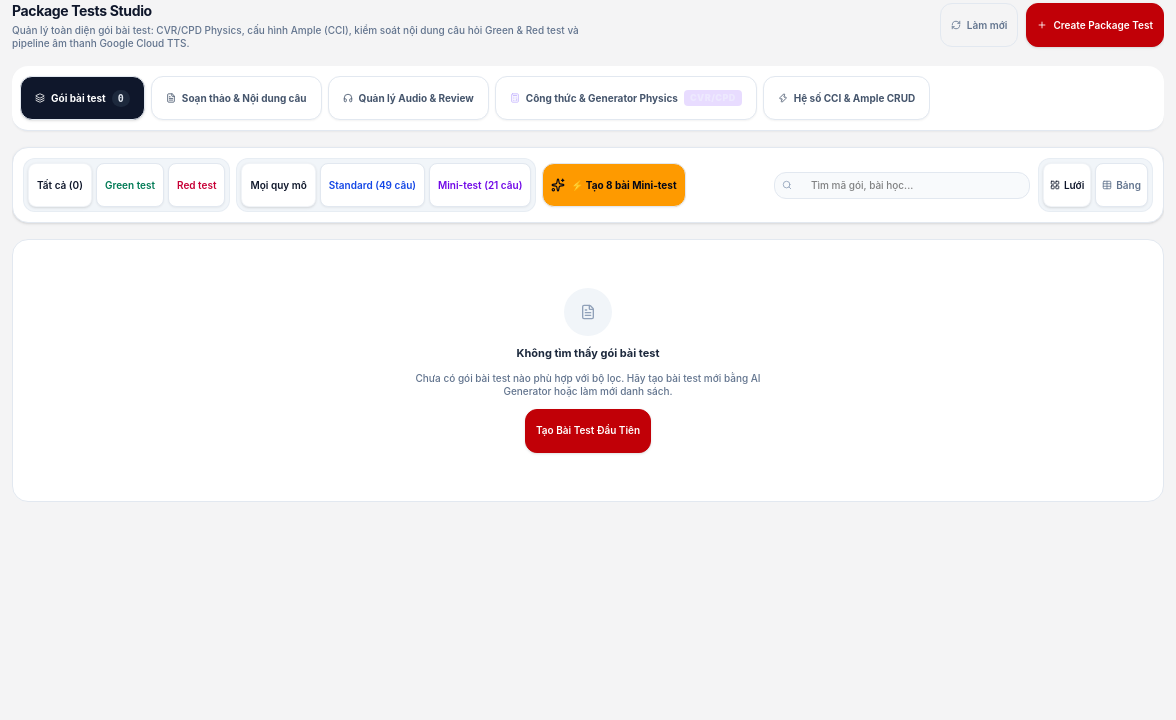
Test: AdminPackageTestsPage › switches to Formulas & Generator Physics tab and displays formulas, archetype matrix, and physics sandbox
What coordinates should you click on to do the following:
click the button "Công thức & Generator Physics CVR/CPD"
I would click on:
 (626, 98)
Its box is [495,76,757,120].
(page scrolled)
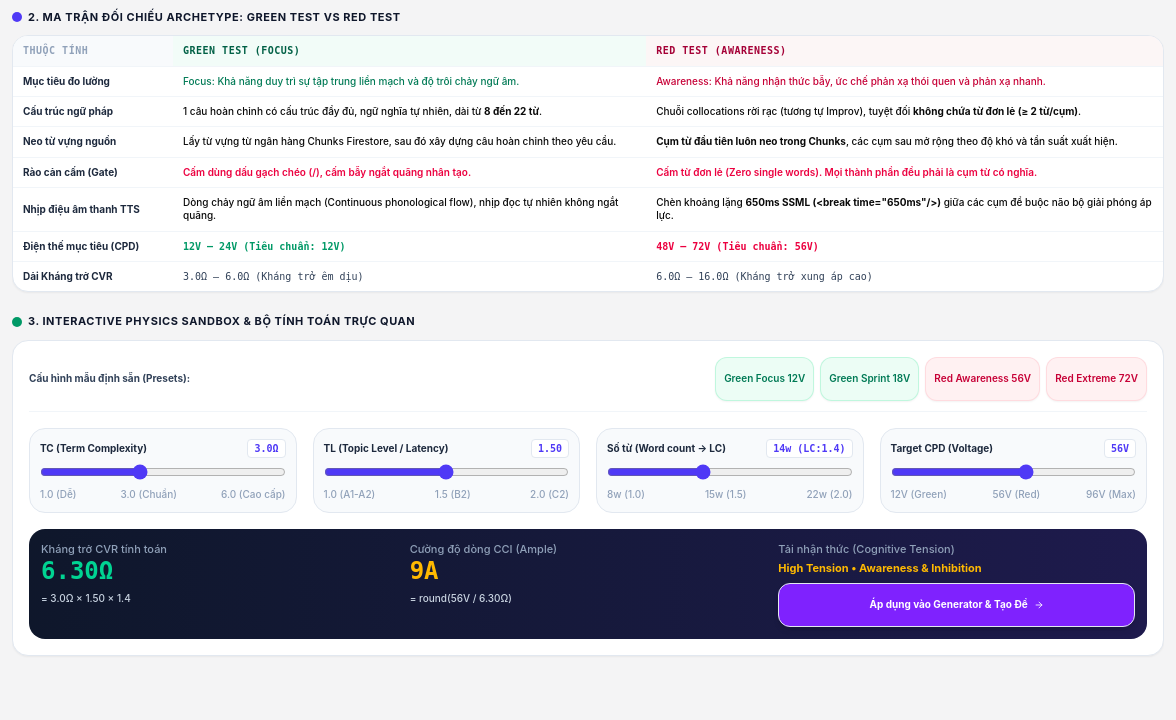
Result: the column heading "GREEN TEST (Focus)" is shown at [173,36,646,66]
Result: the column heading "RED TEST (Awareness)" is shown at [646,36,1163,66]
Result: the button "Green Focus 12V" is shown at [715,357,814,401]
